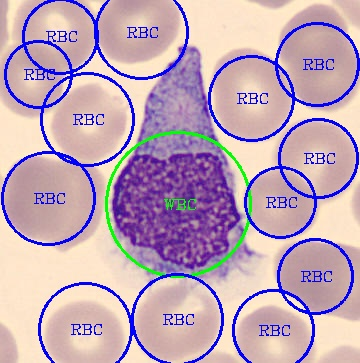RBC: (210, 44, 293, 145), (270, 117, 358, 206), (131, 275, 221, 362), (271, 237, 358, 315), (37, 155, 106, 253), (49, 80, 127, 163), (12, 0, 97, 73), (1, 154, 66, 243), (242, 166, 320, 240), (94, 0, 181, 65), (40, 296, 126, 361), (289, 34, 358, 114), (277, 0, 351, 72), (0, 40, 64, 119), (233, 303, 316, 361)
WBC: (113, 45, 242, 281)
